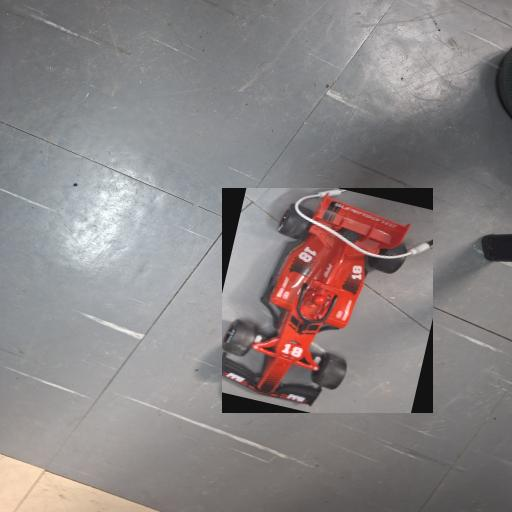carro: (222, 188, 433, 413)
